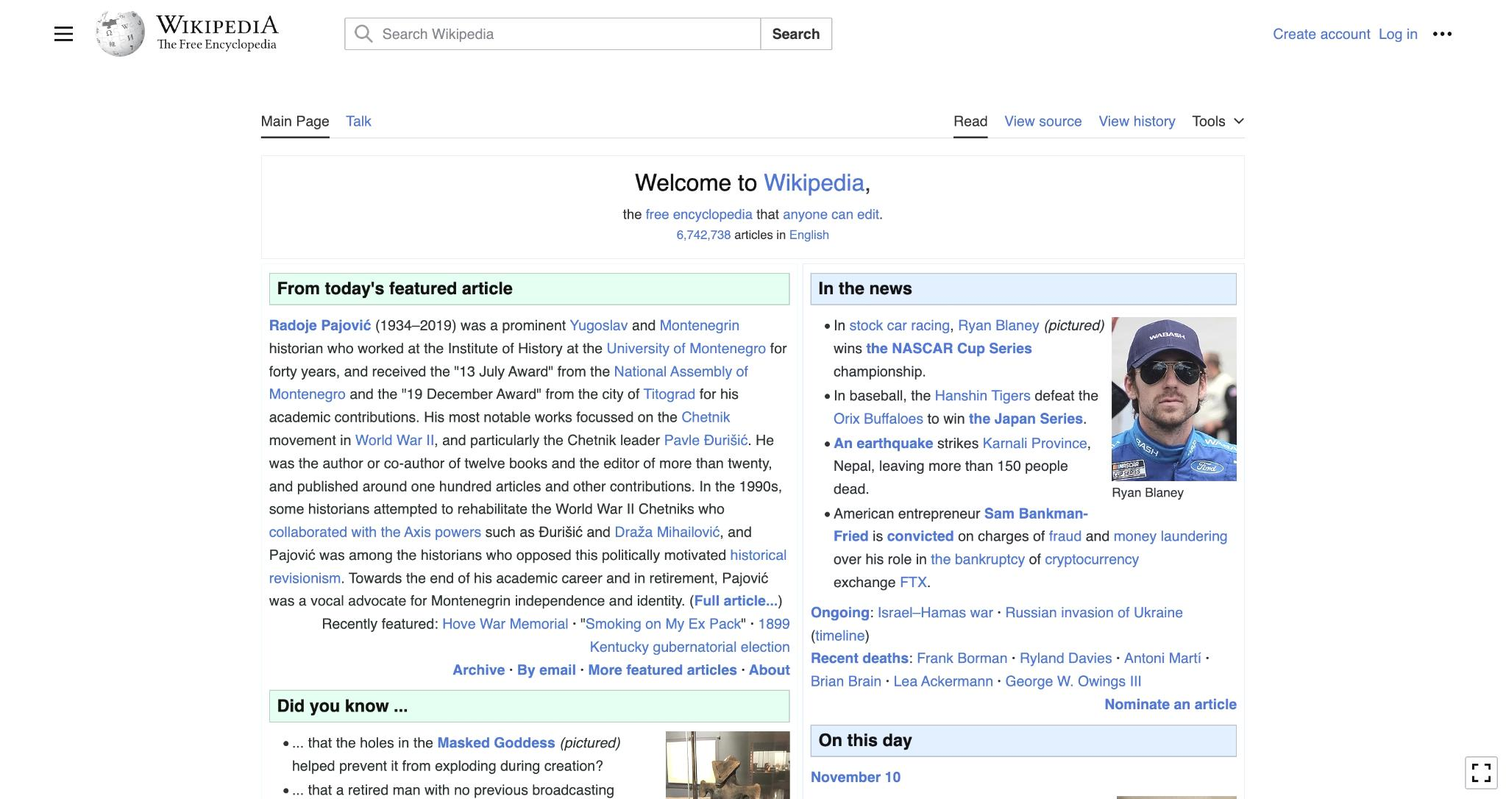webelement: (260, 137, 1245, 799), (319, 17, 1273, 49), (1112, 316, 1237, 480), (269, 546, 786, 584), (269, 363, 748, 401), (344, 17, 760, 49), (94, 8, 321, 58), (833, 504, 1087, 542), (810, 765, 1236, 787), (945, 99, 1183, 136), (666, 730, 789, 799), (589, 615, 788, 653), (634, 168, 864, 195), (1273, 17, 1452, 49), (276, 278, 511, 298), (252, 99, 379, 136), (269, 523, 481, 539), (1006, 603, 1184, 619), (866, 338, 1032, 355), (607, 338, 766, 355), (764, 168, 864, 195), (1005, 100, 1082, 135), (1098, 100, 1175, 135), (585, 614, 740, 631), (276, 696, 407, 715), (588, 661, 738, 677), (155, 14, 278, 33), (759, 17, 831, 49), (1005, 672, 1141, 688), (441, 614, 567, 631), (1104, 695, 1236, 711), (437, 734, 555, 750), (1112, 389, 1237, 404), (818, 278, 911, 298), (818, 729, 911, 749), (877, 603, 993, 619), (968, 409, 1081, 425), (1113, 528, 1226, 544), (1192, 100, 1245, 134), (269, 316, 371, 333), (850, 316, 950, 333), (157, 38, 277, 52), (613, 523, 718, 539), (983, 434, 1087, 450), (833, 434, 933, 450), (894, 672, 993, 688), (810, 650, 908, 666), (1273, 25, 1370, 41), (935, 387, 1030, 403), (931, 550, 1025, 566), (1044, 550, 1138, 566), (1020, 650, 1112, 666), (916, 650, 1007, 666), (782, 205, 879, 220), (833, 409, 923, 425), (811, 768, 901, 784), (957, 316, 1038, 333), (694, 592, 778, 608), (660, 316, 739, 333), (664, 431, 747, 447), (355, 431, 434, 447), (953, 100, 987, 137), (1005, 112, 1082, 128), (1098, 112, 1175, 128), (1124, 650, 1201, 666), (672, 205, 752, 220), (810, 672, 881, 688), (261, 112, 329, 128), (887, 528, 953, 544), (1426, 17, 1458, 49), (1465, 755, 1497, 787), (569, 316, 627, 333), (516, 661, 575, 677), (811, 603, 870, 619), (345, 100, 370, 135), (643, 385, 696, 401), (451, 661, 504, 677), (681, 408, 729, 425), (814, 626, 863, 642), (676, 228, 730, 241), (749, 661, 790, 677), (53, 17, 72, 49), (1379, 25, 1417, 41), (953, 112, 987, 128), (1192, 112, 1226, 128), (1048, 528, 1081, 544), (789, 228, 828, 241), (1117, 795, 1237, 799), (900, 573, 926, 589), (345, 112, 370, 128), (645, 205, 669, 220), (833, 798, 865, 799)
